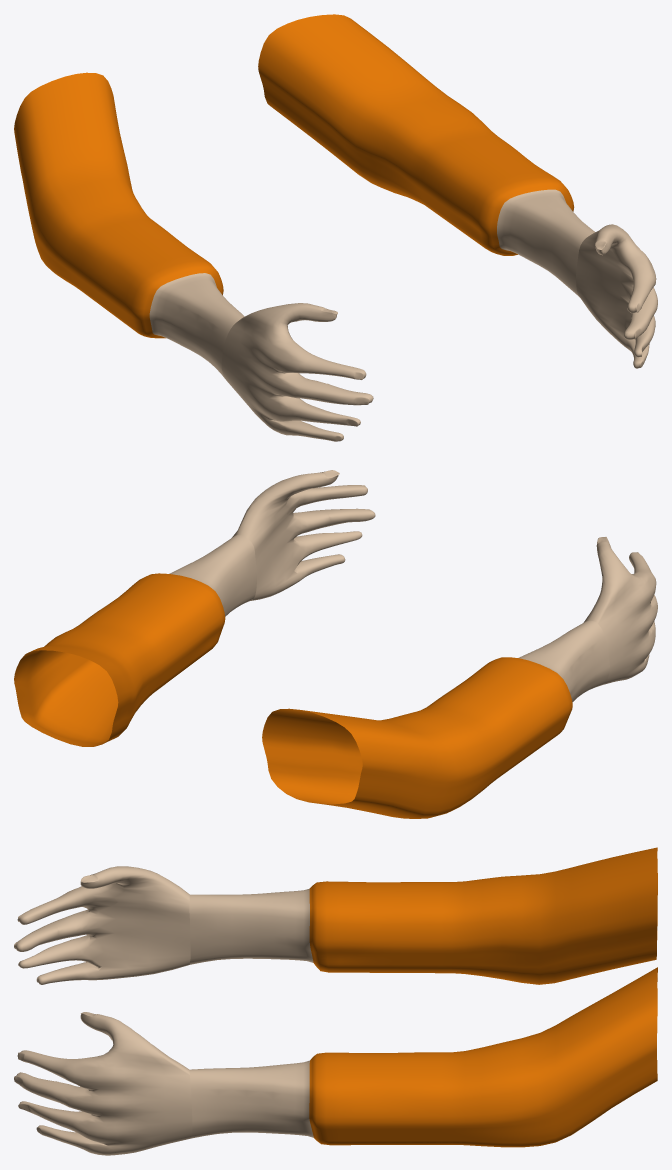
3 views of the same model, one above another, from view 1: azimuth 30°, elevation 25°; view 2: azimuth 150°, elevation 25°; view 3: azimuth 270°, elevation 25° (orthographic). The views are drawn at different scales.
Parts seen in each view (by area): view 1: polySurface21; view 2: polySurface21; view 3: polySurface21.
Boxes of the visible parts, box(x1,y1,x2,y2) form: polySurface21: box(14, 14, 657, 441); polySurface21: box(14, 470, 657, 818); polySurface21: box(14, 847, 657, 1155).
Size of the model in its own units: 1.98 by 0.6182 by 2.45.
